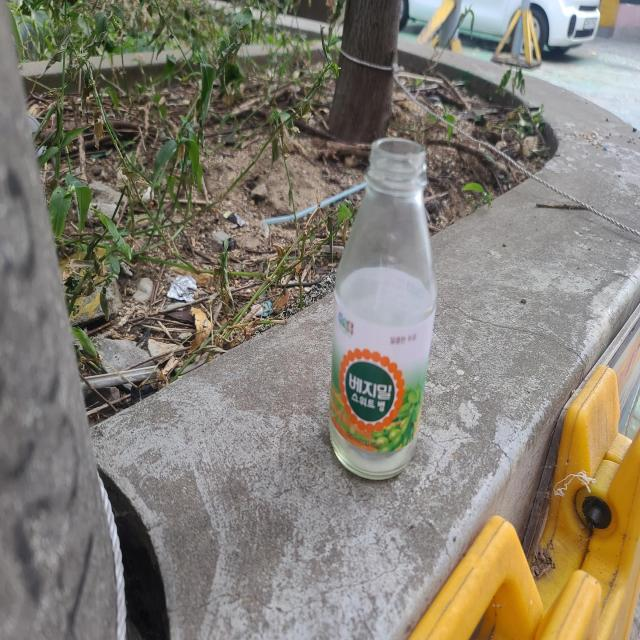glass: (329, 137, 437, 479)
